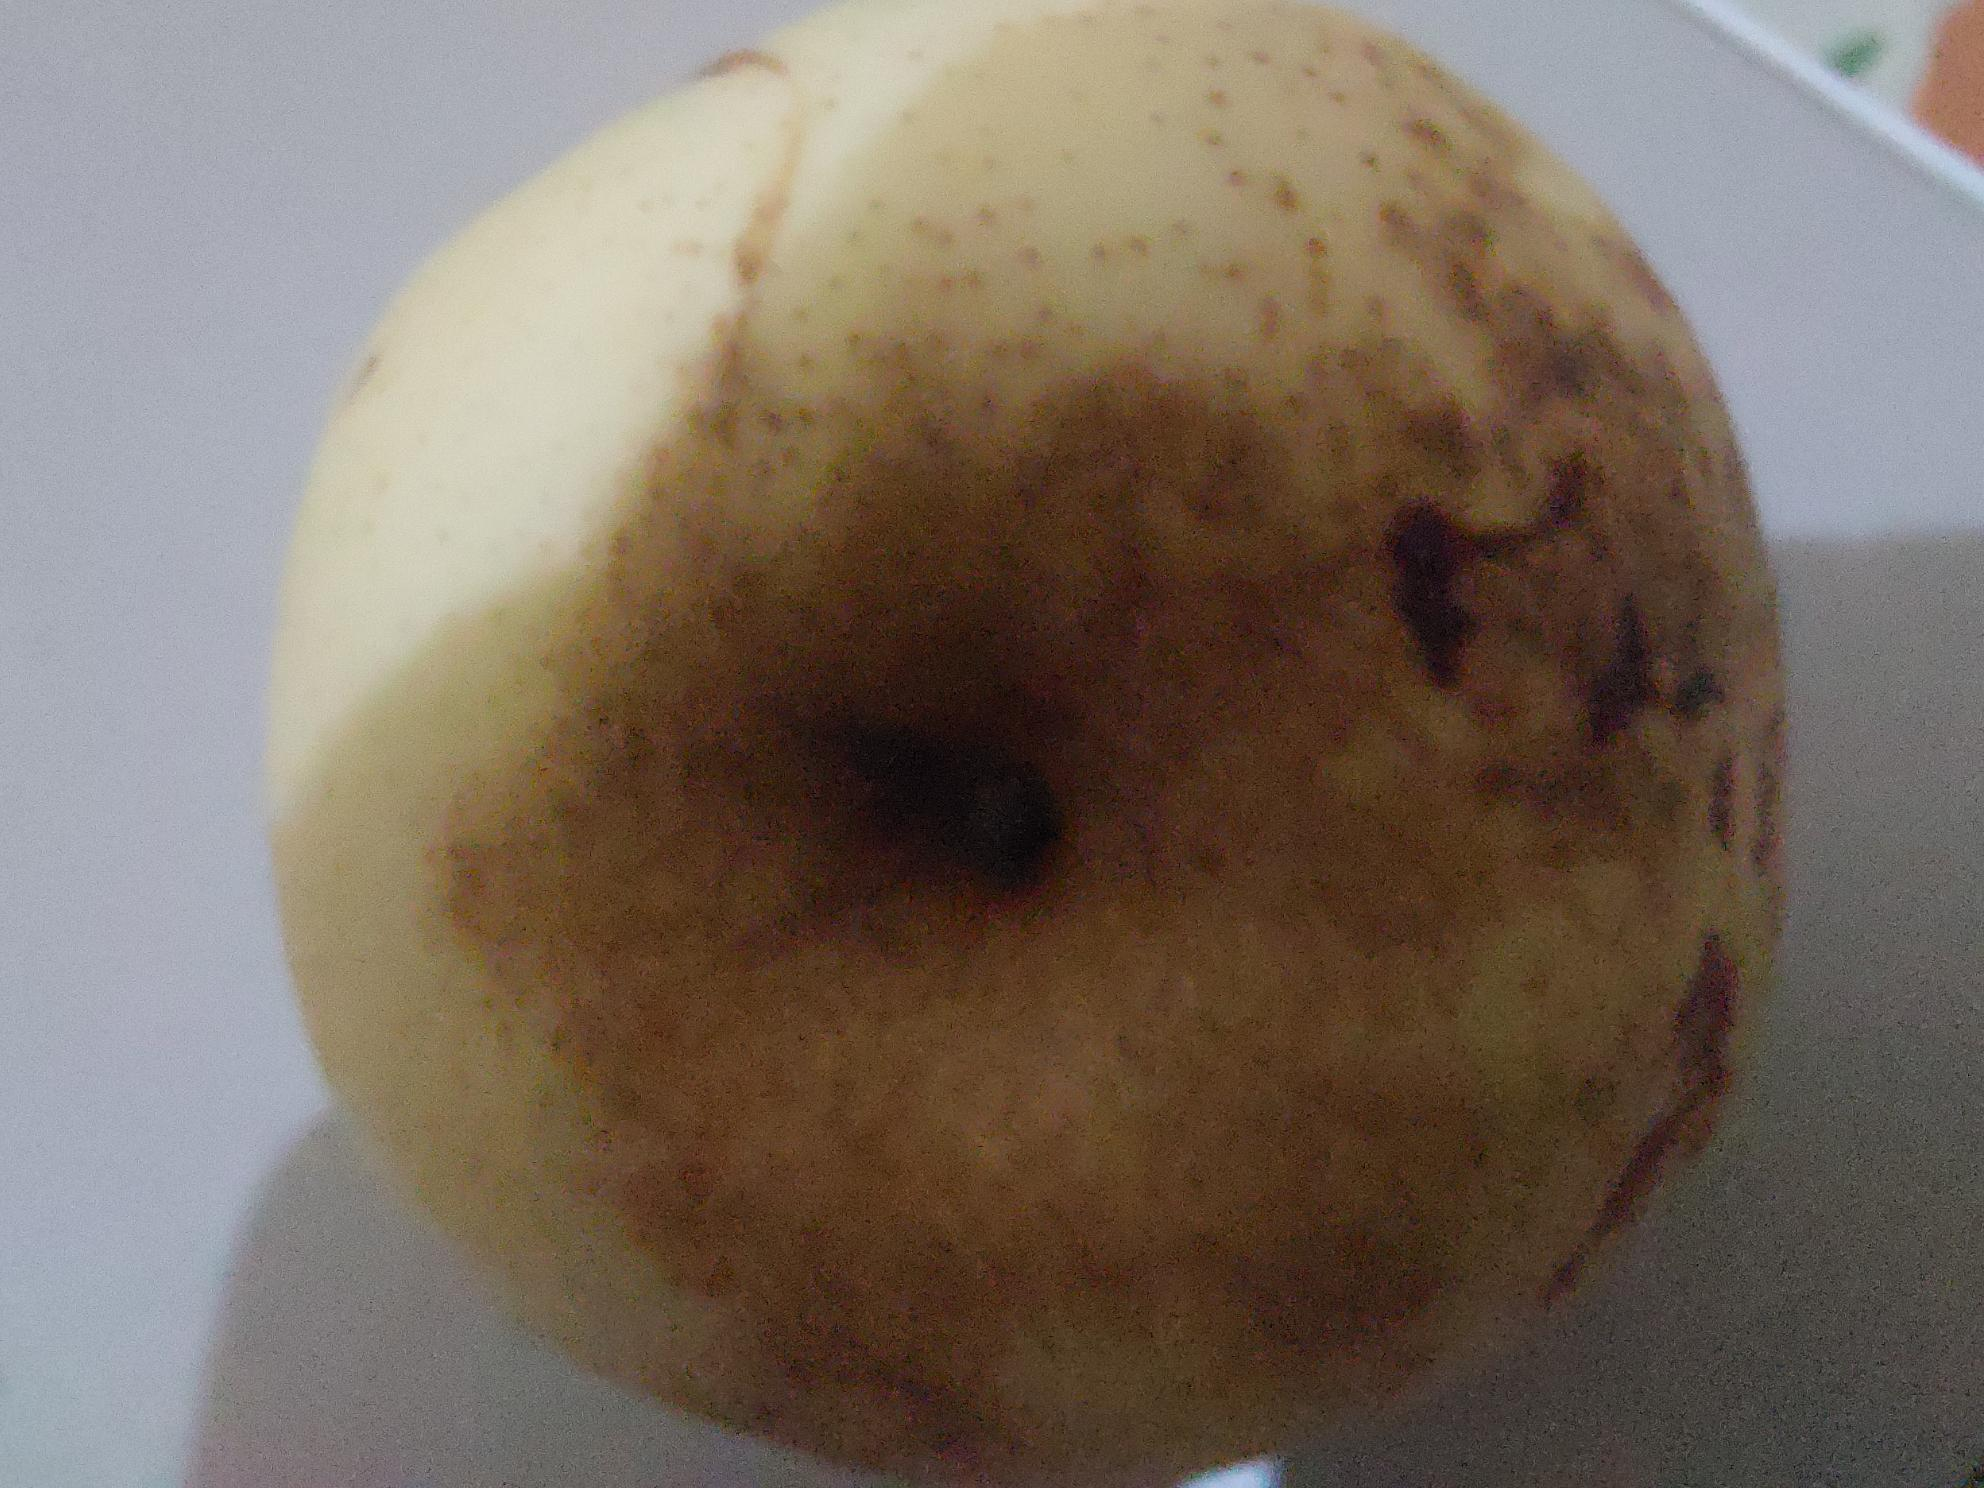Bad Pear: (280, 0, 1782, 1488)
